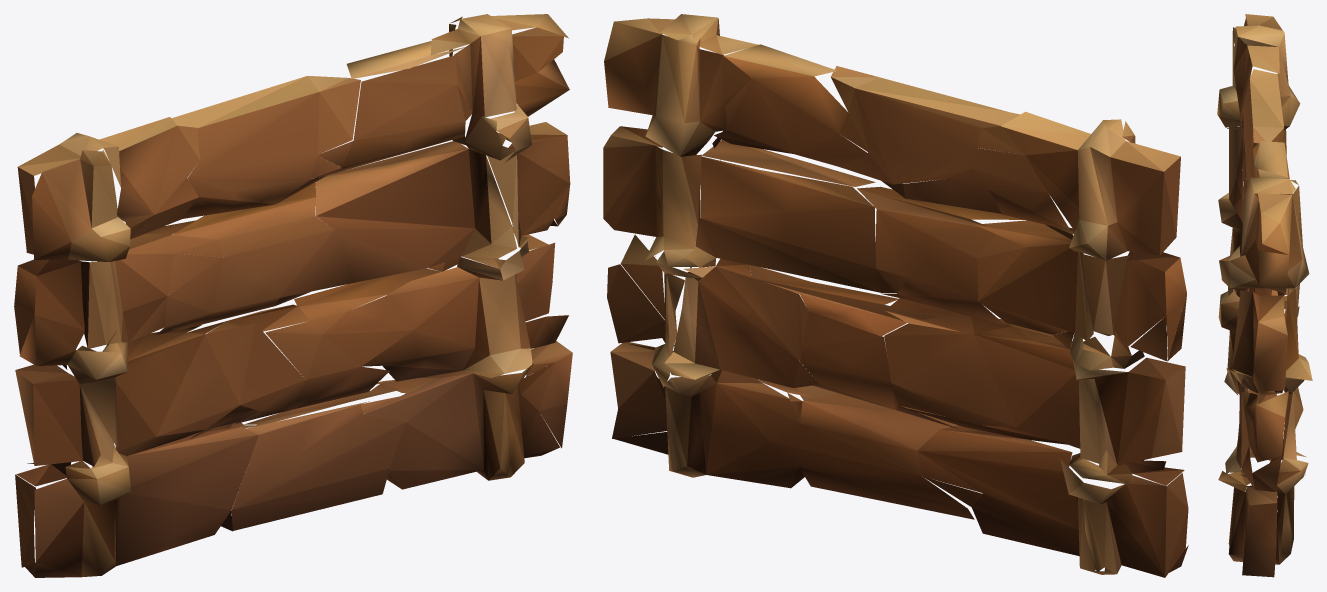
File: building-rainTank-wall.glb
3 views of the same model, side by side, from view 1: azimuth 30°, elevation 25°; view 2: azimuth 150°, elevation 25°; view 3: azimuth 270°, elevation 25° (orthographic). The views are drawn at different scales.
Parts seen in each view (by area): view 1: 0_rainTank-wall; view 2: 0_rainTank-wall; view 3: 0_rainTank-wall.
Boxes of the visible parts, bbox=[...] form: 0_rainTank-wall: bbox=[14, 14, 572, 577]; 0_rainTank-wall: bbox=[603, 14, 1188, 577]; 0_rainTank-wall: bbox=[1217, 14, 1312, 577].
Bounding box in the file's own units: 1 × 0.7664 × 0.1755.
